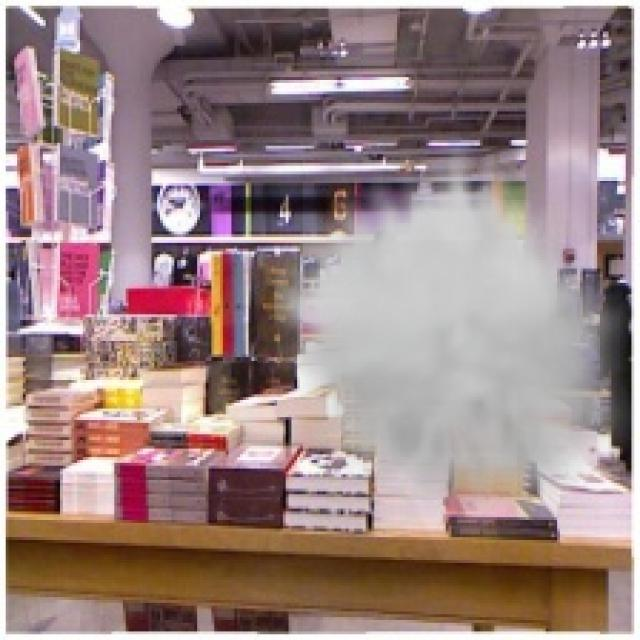smoke: (274, 149, 632, 540)
